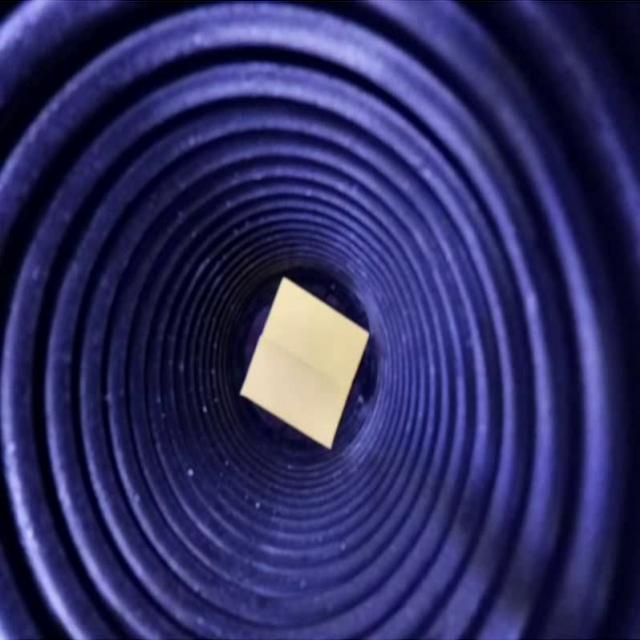obstacles: (237, 272, 372, 457)
